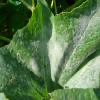Squash Powdery mildew leaf: (1, 3, 99, 98)
